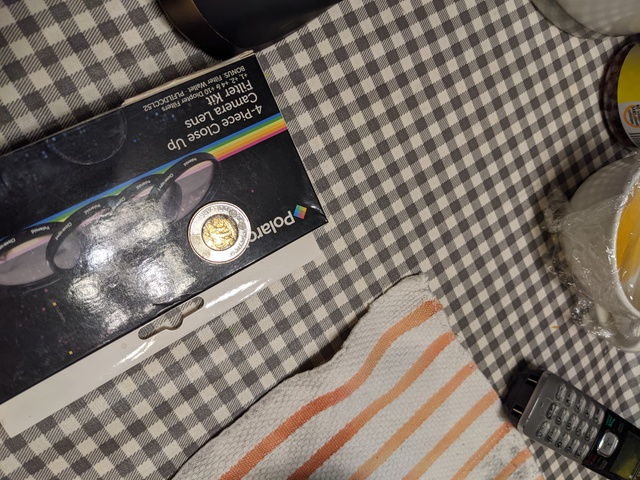twonie: (194, 203, 255, 259)
